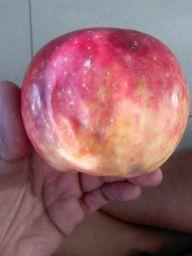Apple Rotten: (24, 27, 192, 181)
